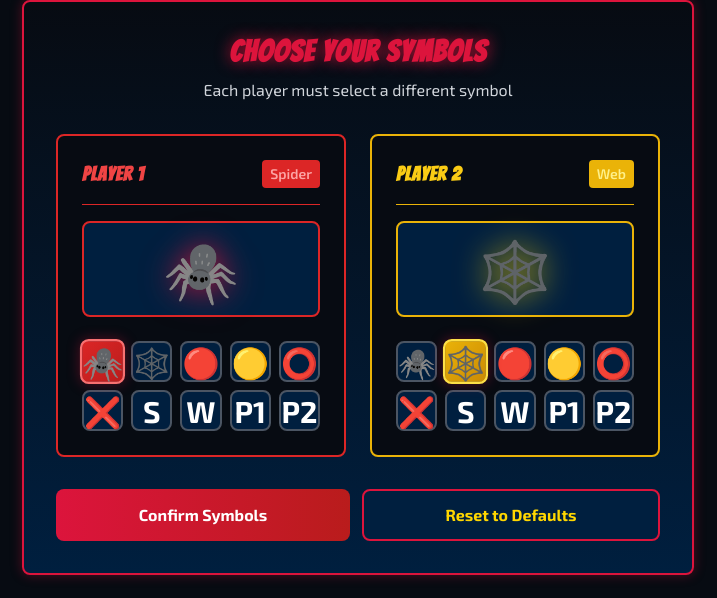
it: SymbolSelection Component › Symbol Selection › should show selected state on the symbol preview
Click the button with class "symbol-button" below "Player 1" at coordinates (201, 362), box [180, 341, 222, 382]
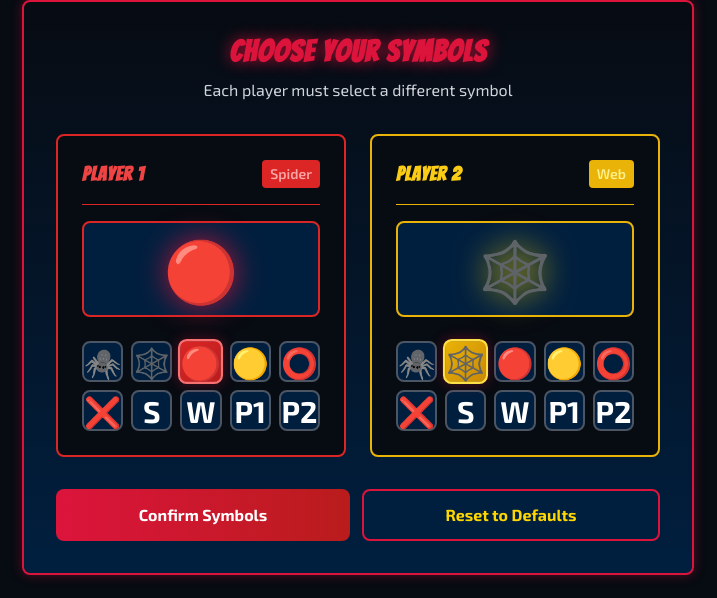
Check: the text with class "symbol-preview" reads "🔴", box [164, 233, 238, 305]
